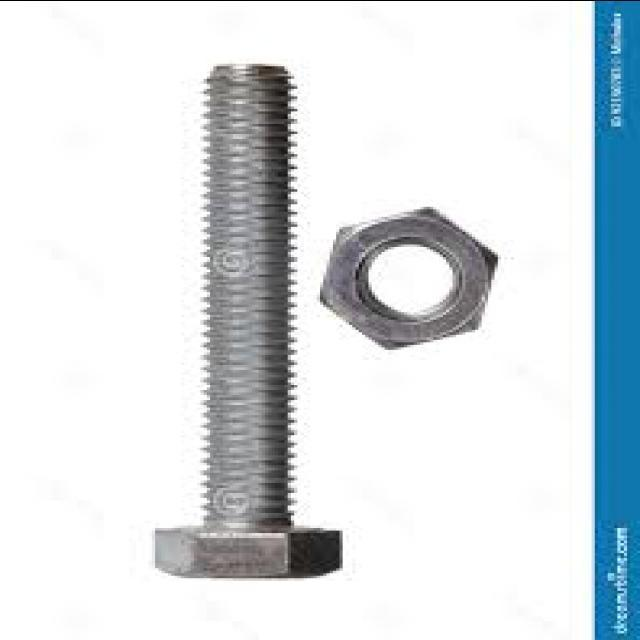bolt: (153, 67, 340, 577)
nut: (324, 207, 503, 351)
